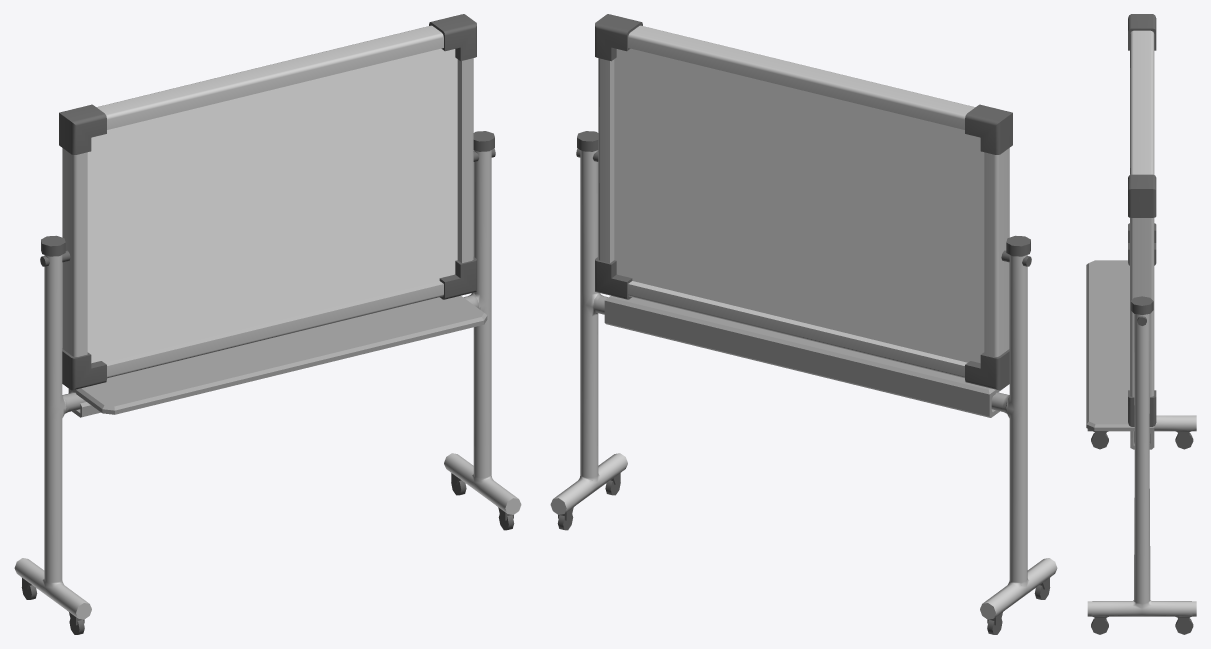
Rendered from SM_Whiteboard.glb.
3 renders of one model, left to right at view 1: azimuth 30°, elevation 25°; view 2: azimuth 150°, elevation 25°; view 3: azimuth 270°, elevation 25°, orthographic. The views are drawn at different scales.
Visible parts, largest first — view 1: SM_Whiteboard_; view 2: SM_Whiteboard_; view 3: SM_Whiteboard_.
Boxes of the visible parts, x1,y1,x2,y2 form: SM_Whiteboard_: (14,14,521,634); SM_Whiteboard_: (550,14,1057,634); SM_Whiteboard_: (1086,14,1196,634).
Size of the model in its own units: 3.21 by 3.37 by 0.7663.
2 materials, 2 textured.
